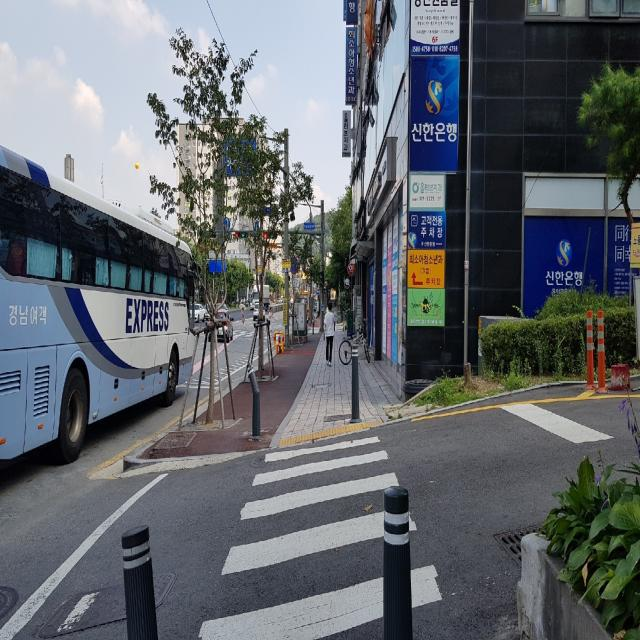횡단보도: (197, 434, 443, 640)
